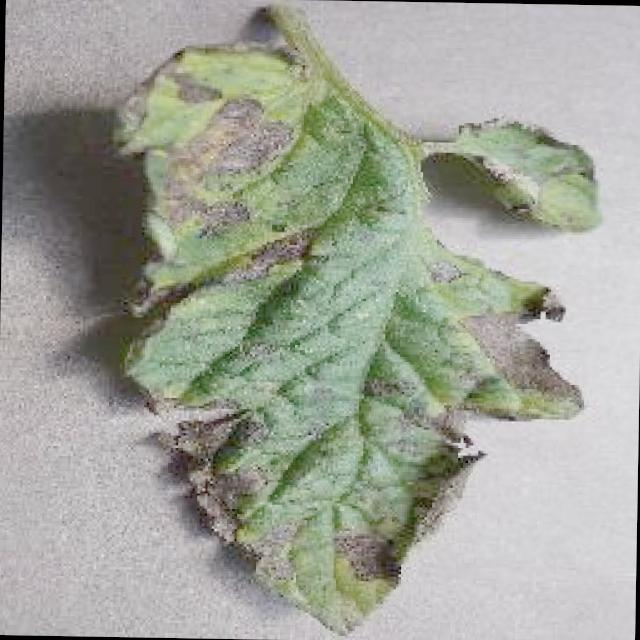Tomato Early blight leaf: (114, 45, 602, 638)
